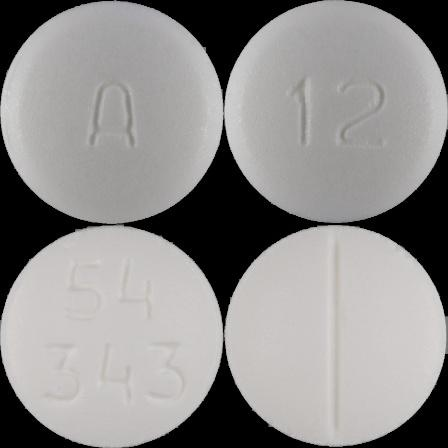63187-238: (0, 0, 224, 224)
